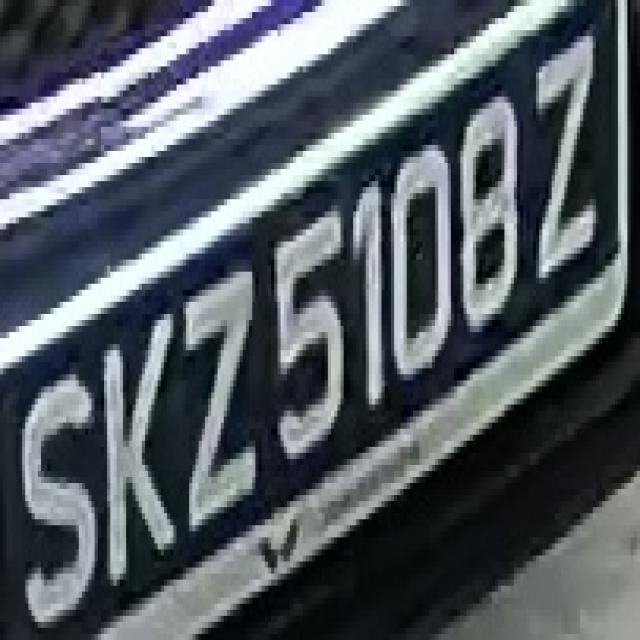0: (385, 127, 457, 398)
1: (350, 151, 391, 441)
5: (271, 187, 356, 483)
8: (448, 72, 523, 368)
K: (101, 290, 173, 610)
S: (9, 344, 101, 640)
Z: (176, 242, 278, 538), (517, 12, 602, 296)
